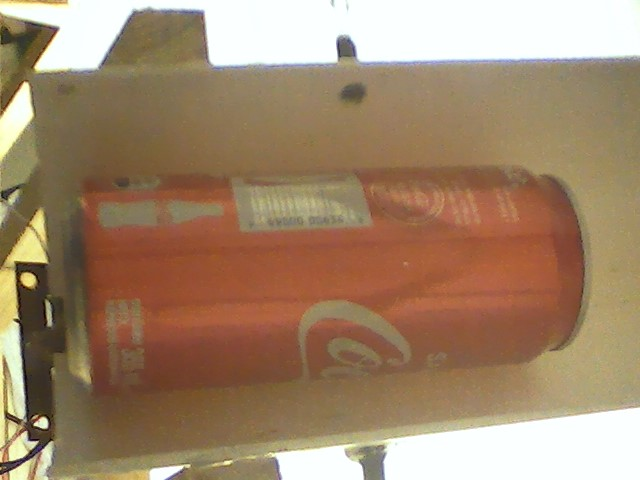lata: (57, 162, 596, 395)
